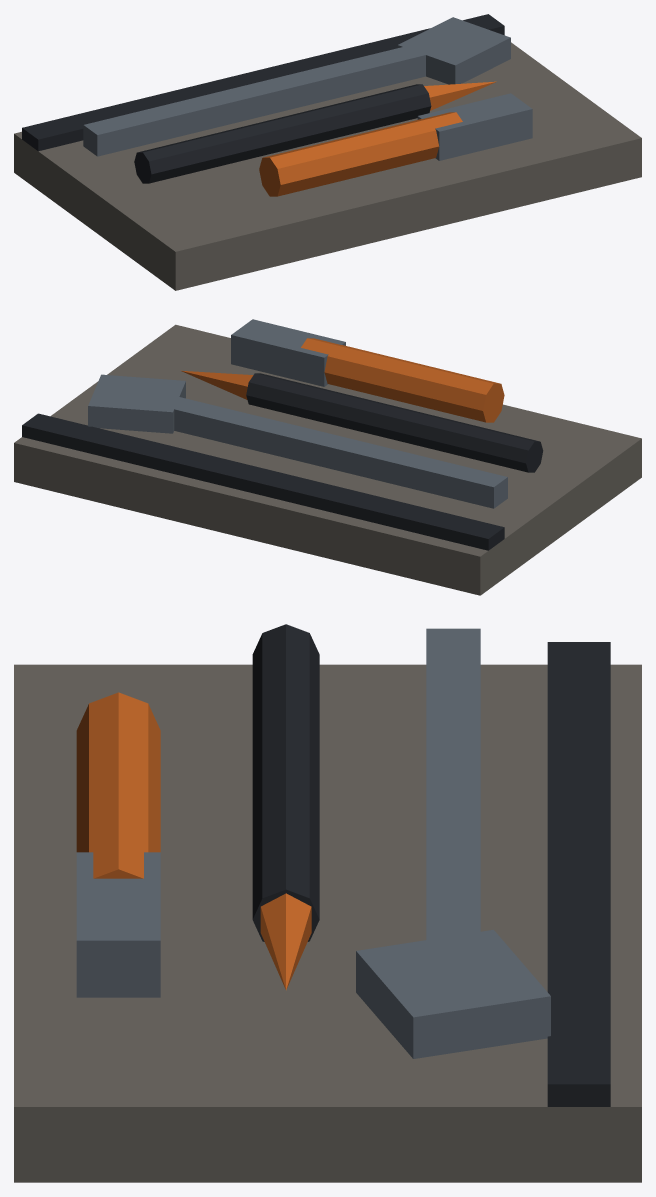
Rendered from tool-roll.glb.
The picture shows the model from 3 angles, top to bottom: view 1: azimuth 30°, elevation 25°; view 2: azimuth 150°, elevation 25°; view 3: azimuth 270°, elevation 25°; orthographic projection. The views are drawn at different scales.
Parts seen in each view (by area): view 1: tool-roll; view 2: tool-roll; view 3: tool-roll.
Boxes of the visible parts, x1,y1,x2,y2 form: tool-roll: (14,14,641,290); tool-roll: (14,319,641,595); tool-roll: (14,624,641,1182).
Size of the model in its own units: 0.5 by 0.086 by 0.3.
